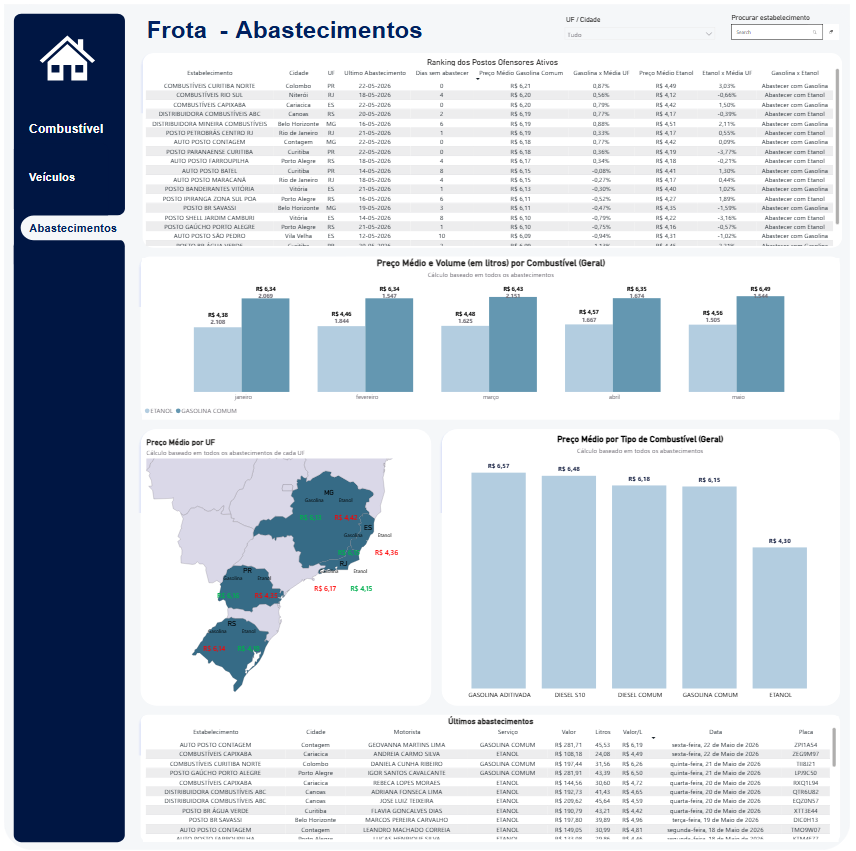

Layout of this report page (visuals, bound fields, positions):
{"tool":"powerbi","page":{"name":"Abastecimento","canvas":[1800,1800],"ordinal":2},"visuals":[{"type":"tableEx","title":"Ranking dos Postos Ofensores Ativos","fields":{"Values":["comb.estabelecimento","comb.cidade","comb.uf","Medidas Abastecimentos.Ultimo Abastecimento","Medidas Abastecimentos.Dias sem abastecer","Medidas Média.Preço Médio Gasolina Comum","Medidas Média.Gasolina x Média UF","Medidas Média.Preço Médio Etanol","Medidas Média.Etanol x Média UF","Medidas Média.Gasolina x Etanol"]},"box":[296.7,112,1486.7,406.7],"z":0},{"type":"shapeMap","title":"Preço Médio por UF","fields":{"Category":["UF_ESTADOS.Estado"]},"box":[297.6,920.2,593.3,573.3],"z":0,"group":"g2"},{"type":"slicer","fields":{"Values":["comb.uf","comb.cidade"]},"box":[1183.3,21.7,340,65],"z":1000},{"type":"group","id":"g1","title":"Grupo 1","box":[297.6,920.2,593.3,573.3],"z":2000},{"type":"tableEx","title":"Últimos abastecimentos","fields":{"Values":["comb.estabelecimento","comb.cidade","comb.motorista","comb.servico","Sum(comb.valor)","Sum(comb.litros)","Sum(comb.valor_lt)","comb.data","comb.placa"]},"box":[296,1514,1480,268],"z":3000},{"type":"textFilter25A4896A83E0487089E2B90C9AE57C8A","title":"Procurar estabelecimento","fields":{"field":["comb.estabelecimento"]},"box":[1542.2,22.2,240,64.4],"z":4000},{"type":"group","id":"g2","title":"Grupo 3","box":[297.6,920.2,593.3,573.3],"z":4001,"group":"g3"},{"type":"lineClusteredColumnComboChart","title":"Preço Médio por Tipo de Combustível (Geral)","fields":{"Y":["Média.Preco Medio por Litro"],"Category":["comb.servico"]},"box":[930,915,847.5,572.5],"z":5000},{"type":"cardVisual","title":"MG","fields":{"Data":["Medidas Média.Preço Médio Gasolina Comum","Medidas Média.Preço Médio Etanol"]},"box":[596.7,1029.9,185.7,90],"z":7500,"group":"g2"},{"type":"cardVisual","title":"RJ","fields":{"Data":["Medidas Média.Preço Médio Gasolina Comum","Medidas Média.Preço Médio Etanol"]},"box":[628.6,1182.9,188.6,90],"z":8000},{"type":"group","id":"g3","title":"Grupo 2","box":[297.6,920.2,593.3,573.3],"z":8002,"group":"g1"},{"type":"cardVisual","title":"PR","fields":{"Data":["Medidas Média.Preço Médio Gasolina Comum","Medidas Média.Preço Médio Etanol"]},"box":[420,1197.1,197.1,90],"z":9000},{"type":"clusteredColumnChart","title":"Preço Médio e Volume (em litros) por Combustível (Geral)","fields":{"Category":["comb.data.Variation.Hierarquia de datas.Mês"],"Y":["Medidas Média.Preço Médio por Litro"],"Series":["comb.servico"]},"box":[293,541,1484.3,344.3],"z":10000},{"type":"cardVisual","title":"RS","fields":{"Data":["Medidas Média.Preço Médio Gasolina Comum","Medidas Média.Preço Médio Etanol"]},"box":[392.9,1311.4,181.4,90],"z":11000},{"type":"cardVisual","title":"ES","fields":{"Data":["Medidas Média.Preço Médio Gasolina Comum","Medidas Média.Preço Médio Etanol"]},"box":[675.7,1107.1,194.3,90],"z":12000},{"type":"actionButton","box":[30,231.4,221.4,70],"z":12001},{"type":"actionButton","box":[30,330,221.4,72.9],"z":12002}]}

Visuals, with their boxes in screenshot pixels (x1, y1, x2, y2), scaled from the page's 1800x1800 canvas onto the 856x851 screenshot:
"Ranking dos Postos Ofensores Ativos" tableEx: bbox=(141, 53, 848, 245)
"Preço Médio por UF" shapeMap: bbox=(142, 435, 424, 706)
slicer - comb.uf x comb.cidade: bbox=(563, 10, 724, 41)
"Grupo 1" group: bbox=(142, 435, 424, 706)
"Últimos abastecimentos" tableEx: bbox=(141, 716, 845, 842)
"Procurar estabelecimento" textFilter25A4896A83E0487089E2B90C9AE57C8A: bbox=(733, 10, 848, 41)
"Grupo 3" group: bbox=(142, 435, 424, 706)
"Preço Médio por Tipo de Combustível (Geral)" lineClusteredColumnComboChart: bbox=(442, 433, 845, 703)
"MG" cardVisual: bbox=(284, 487, 372, 529)
"RJ" cardVisual: bbox=(299, 559, 389, 602)
"Grupo 2" group: bbox=(142, 435, 424, 706)
"PR" cardVisual: bbox=(200, 566, 293, 609)
"Preço Médio e Volume (em litros) por Combustível (Geral)" clusteredColumnChart: bbox=(139, 256, 845, 419)
"RS" cardVisual: bbox=(187, 620, 273, 663)
"ES" cardVisual: bbox=(321, 523, 414, 566)
actionButton: bbox=(14, 109, 120, 142)
actionButton: bbox=(14, 156, 120, 190)
